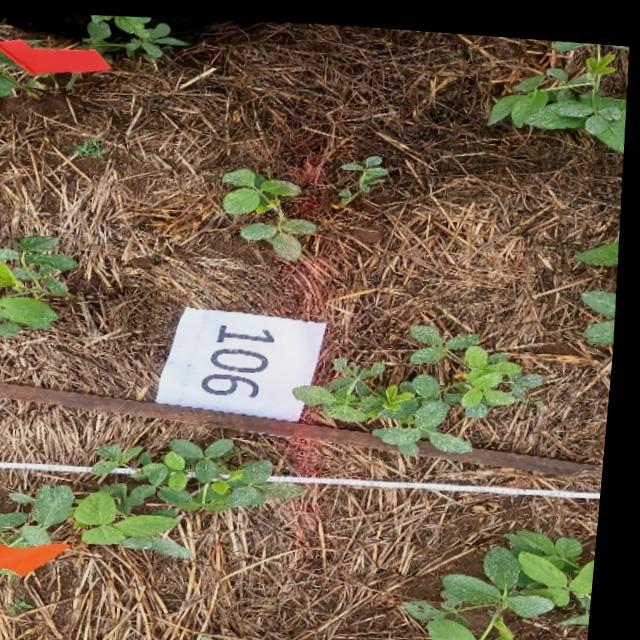grassy_weed: (66, 135, 111, 156)
soy_plant: (0, 435, 310, 554), (300, 318, 547, 447), (412, 521, 604, 640), (489, 32, 627, 142), (225, 165, 318, 255), (80, 13, 186, 57), (341, 149, 389, 199), (585, 280, 620, 334), (0, 51, 41, 97), (577, 233, 622, 256)
